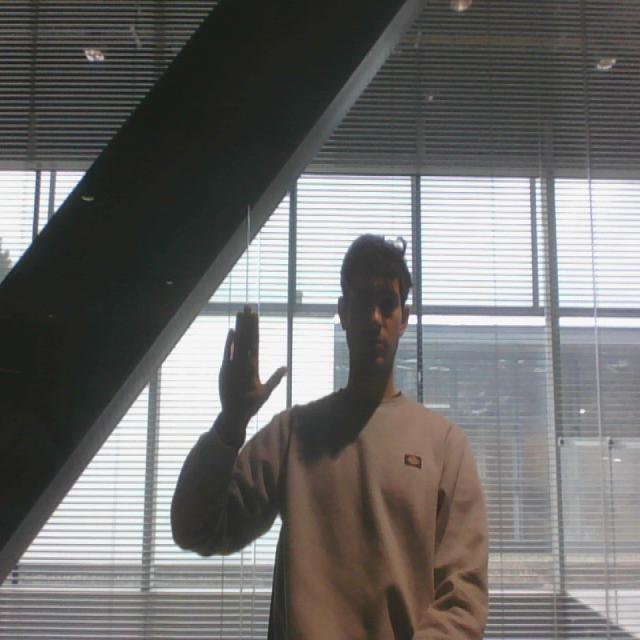backward: (215, 292, 292, 430)
